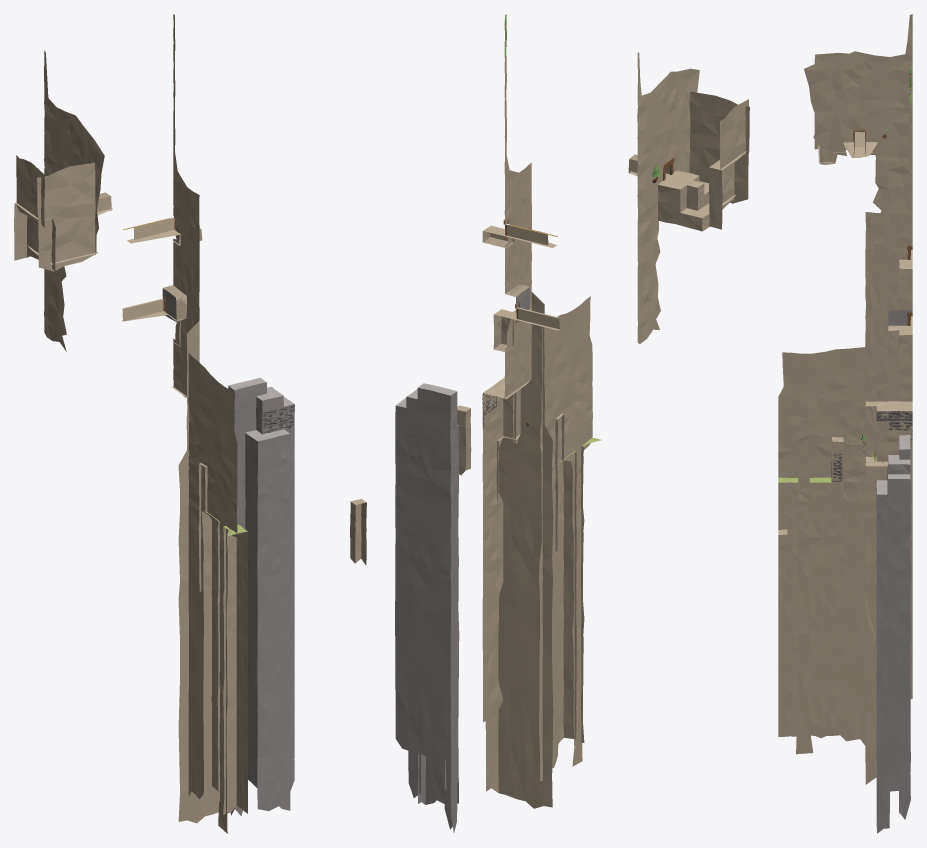
3 renders of one model, left to right at view 1: azimuth 30°, elevation 25°; view 2: azimuth 150°, elevation 25°; view 3: azimuth 270°, elevation 25°, orthographic. The views are drawn at different scales.
Parts seen in each view (by area): view 1: 10; view 2: 10; view 3: 10.
Boxes of the visible parts, x1=… form: 10: x1=14, y1=14, x2=366, y2=833; 10: x1=395, y1=14, x2=749, y2=832; 10: x1=778, y1=14, x2=912, y2=833.
Bounding box in the file's own units: 28.44 × 72.07 × 12.
Materials: 1 (1 with a texture image).
